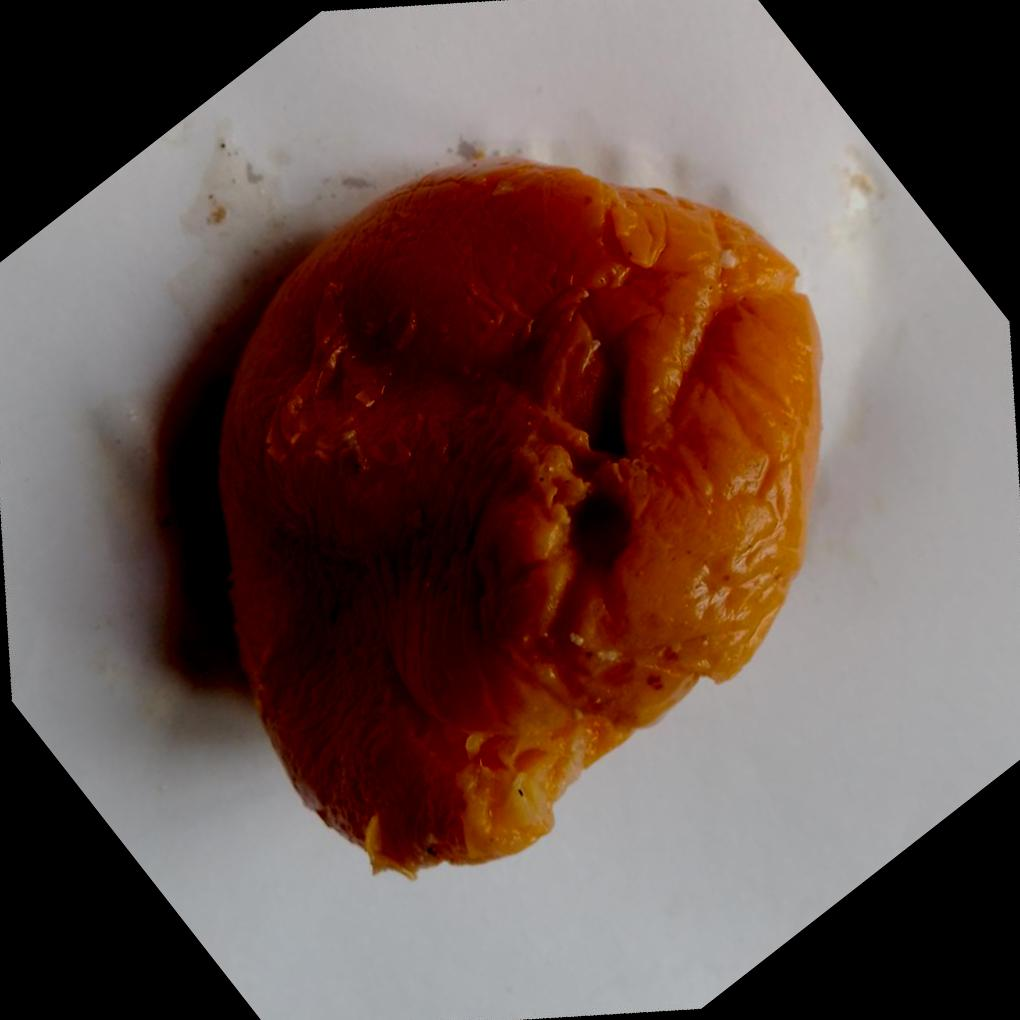FreshOrange: (213, 157, 826, 881)
